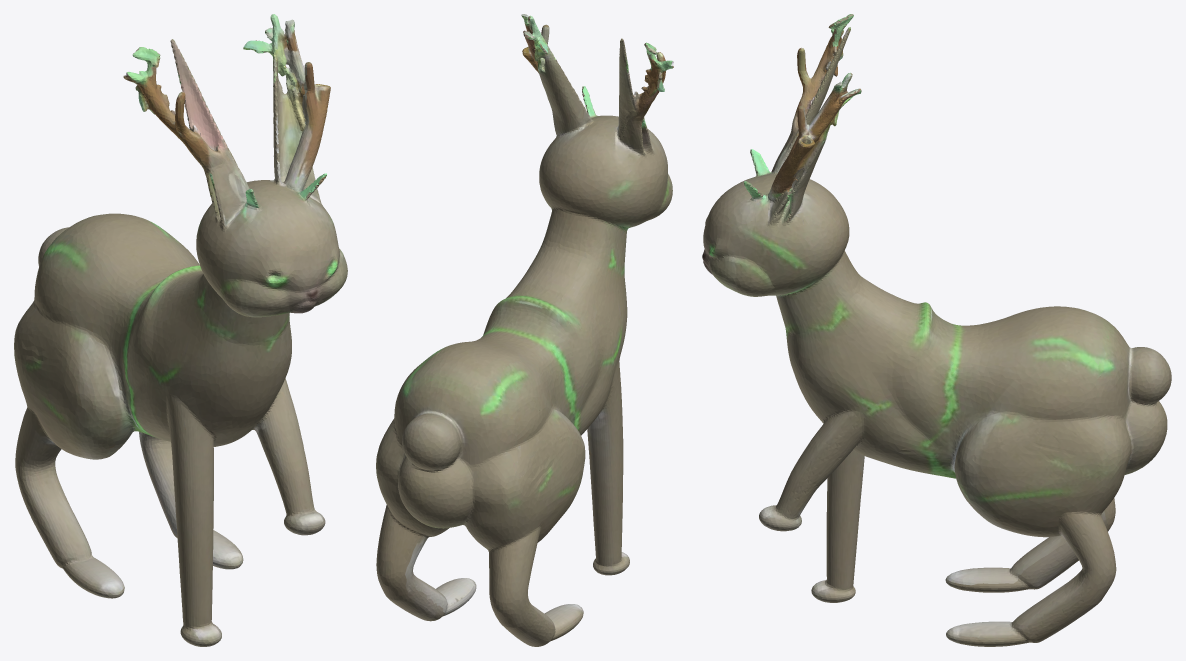
File: creature-011.glb
3 renders of one model, left to right at view 1: azimuth 30°, elevation 25°; view 2: azimuth 150°, elevation 25°; view 3: azimuth 270°, elevation 25°, orthographic. The views are drawn at different scales.
Parts seen in each view (by area): view 1: tmprr92trcw.ply; view 2: tmprr92trcw.ply; view 3: tmprr92trcw.ply.
Part boxes in pixels (x1,y1,x2,y2): tmprr92trcw.ply: (14, 14, 347, 646); tmprr92trcw.ply: (376, 14, 673, 646); tmprr92trcw.ply: (702, 14, 1171, 646).
Bounding box in the file's own units: 0.6891 × 1.99 × 1.5.
1 material, 1 textured.
